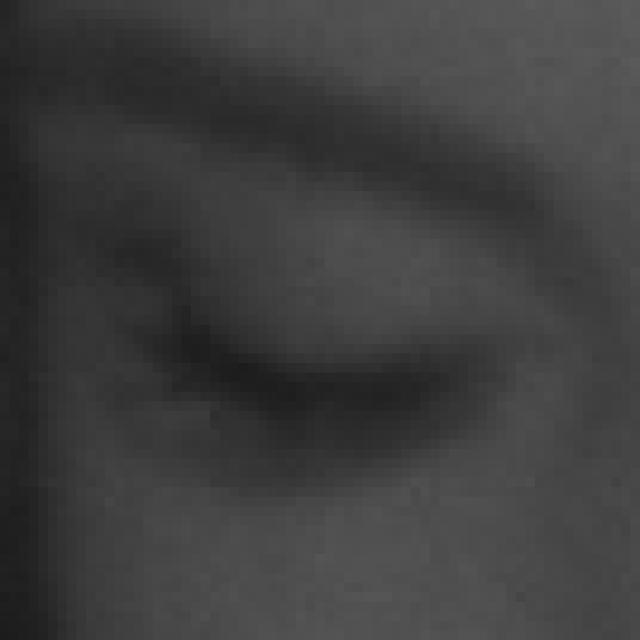Eyeclosed: (121, 185, 462, 535)
